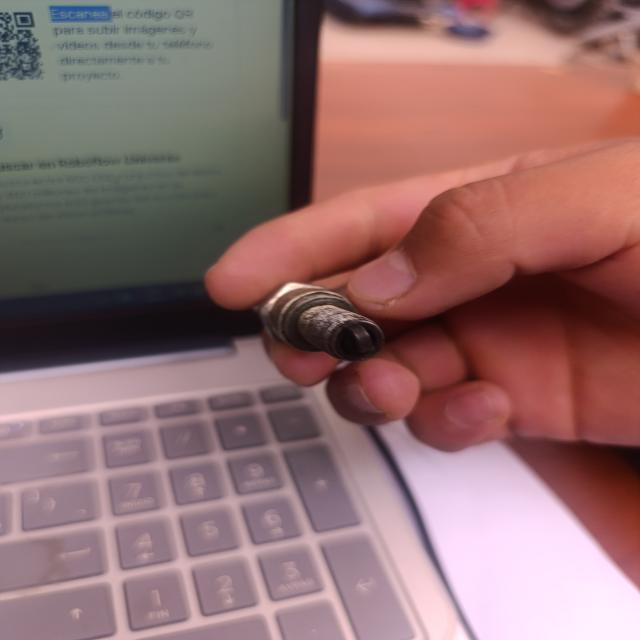bujia: (255, 282, 384, 361)
